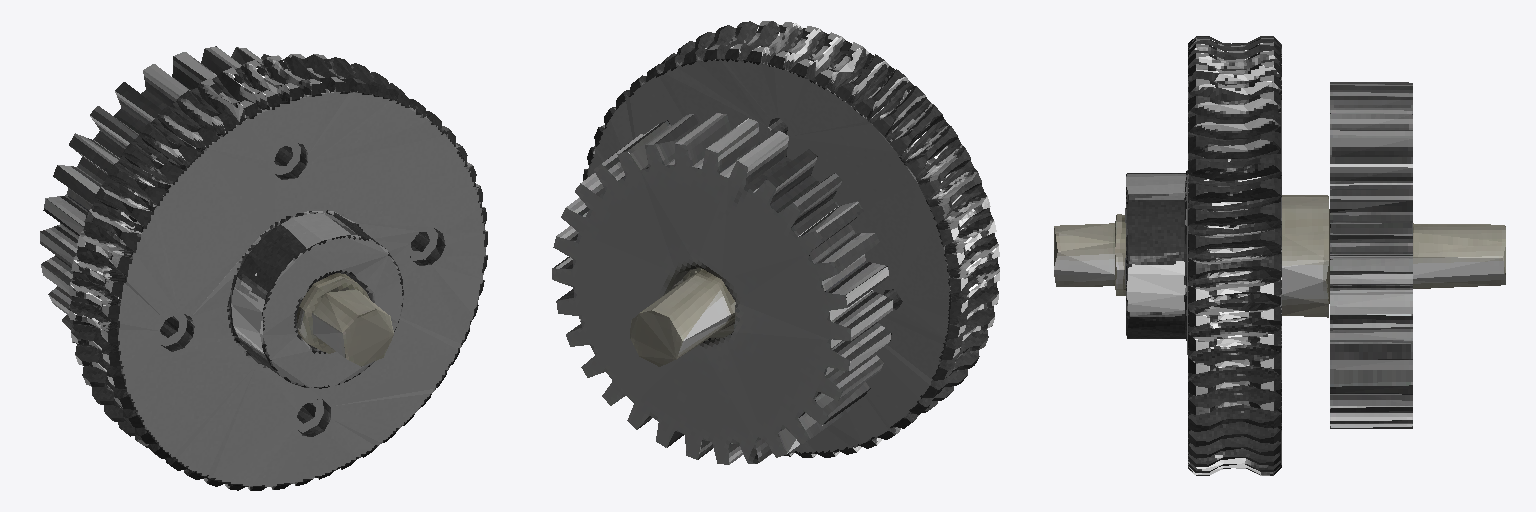
3 renders of one model, left to right at view 1: azimuth 30°, elevation 25°; view 2: azimuth 150°, elevation 25°; view 3: azimuth 270°, elevation 25°, orthographic.
Parts seen in each view (by area): view 1: AGDL2-50R1_WormWheel(GearBox2), Piñon.008_Mesh.011; view 2: Piñon.008_Mesh.011, AGDL2-50R1_WormWheel(GearBox2); view 3: AGDL2-50R1_WormWheel(GearBox2), Piñon.008_Mesh.011.
Boxes of the visible parts, x1,y1,x2,y2 form: AGDL2-50R1_WormWheel(GearBox2): [69, 54, 487, 490]; Piñon.008_Mesh.011: [40, 46, 393, 366]; Piñon.008_Mesh.011: [552, 113, 892, 464]; AGDL2-50R1_WormWheel(GearBox2): [583, 21, 999, 457]; AGDL2-50R1_WormWheel(GearBox2): [1125, 36, 1281, 475]; Piñon.008_Mesh.011: [1054, 82, 1505, 428].
Bounding box in the file's own units: 0.139 × 0.139 × 0.1431.
Materials: 3 (2 with a texture image).